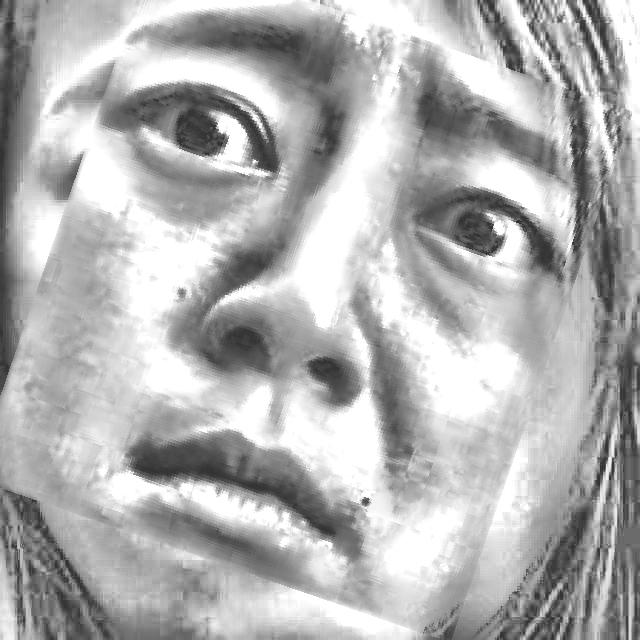fear: (10, 0, 593, 609)
